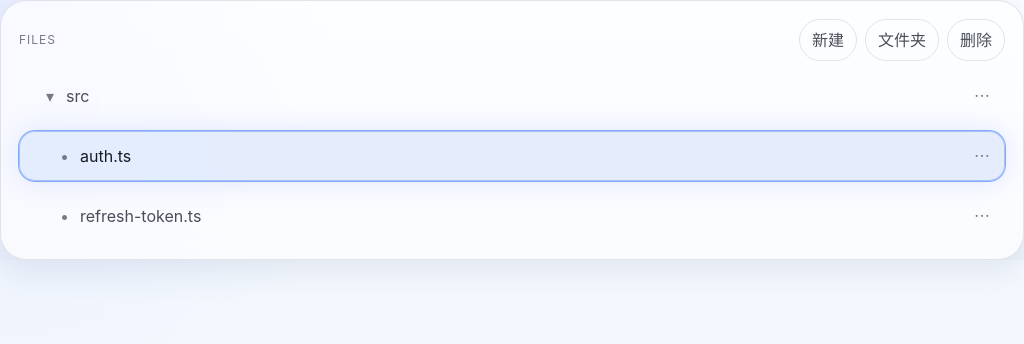
Test: WorkspaceTree › renders folders from workspace paths and allows creating a folder
Expected: the button "▾ src ⋯" is shown, [46, 84, 990, 108]
Click the button "文件夹" at (902, 40), box [865, 19, 939, 61]
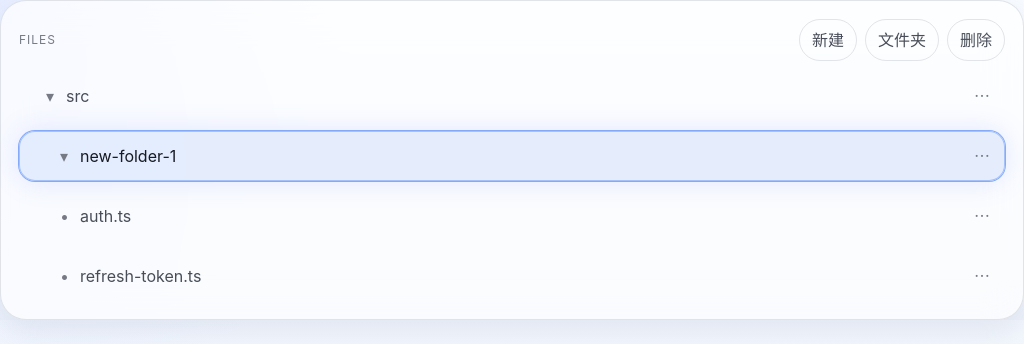
Expected: the button "▾ new-folder-1 ⋯" is shown, [19, 131, 1005, 181]
